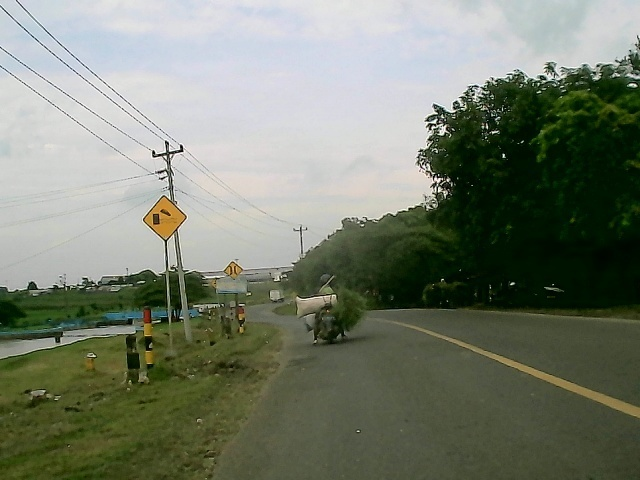Peringatan tepi air: (142, 193, 189, 243)
